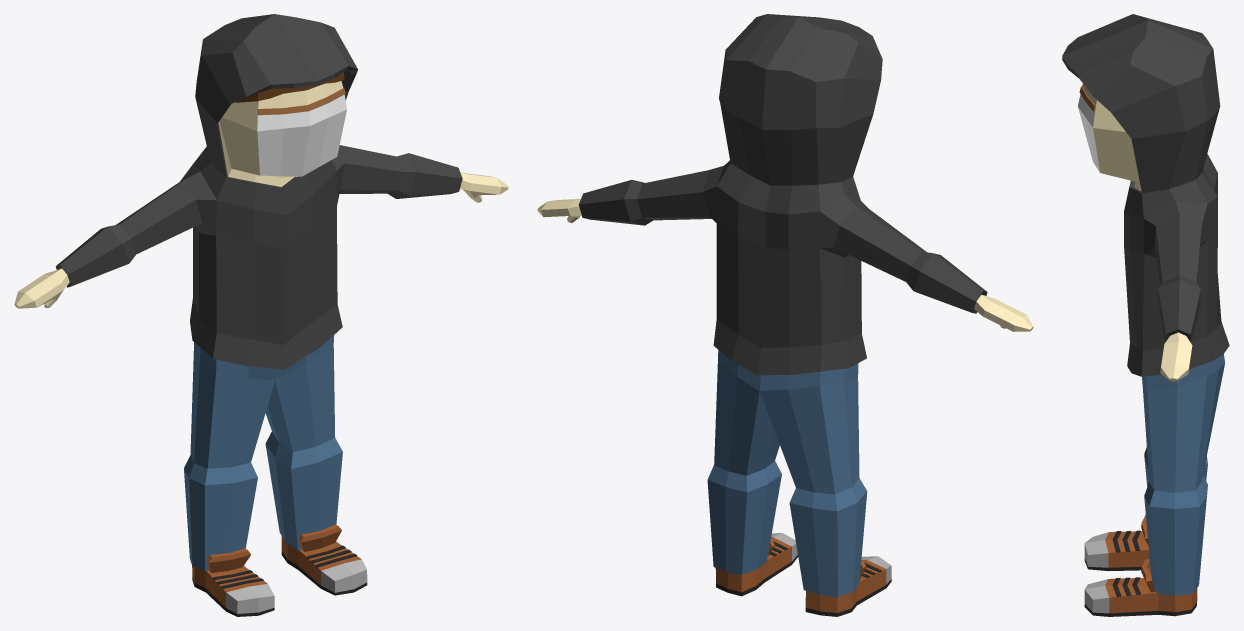
File: Boy_3.glb
3 renders of one model, left to right at view 1: azimuth 30°, elevation 25°; view 2: azimuth 150°, elevation 25°; view 3: azimuth 270°, elevation 25°, orthographic.
Parts seen in each view (by area): view 1: Cube.003; view 2: Cube.003; view 3: Cube.003.
Part boxes in pixels (bbox=[...]): Cube.003: bbox=[14, 14, 508, 616]; Cube.003: bbox=[537, 14, 1033, 616]; Cube.003: bbox=[1062, 14, 1229, 616].
Bounding box in the file's own units: 1.67 × 1.84 × 0.4962.
